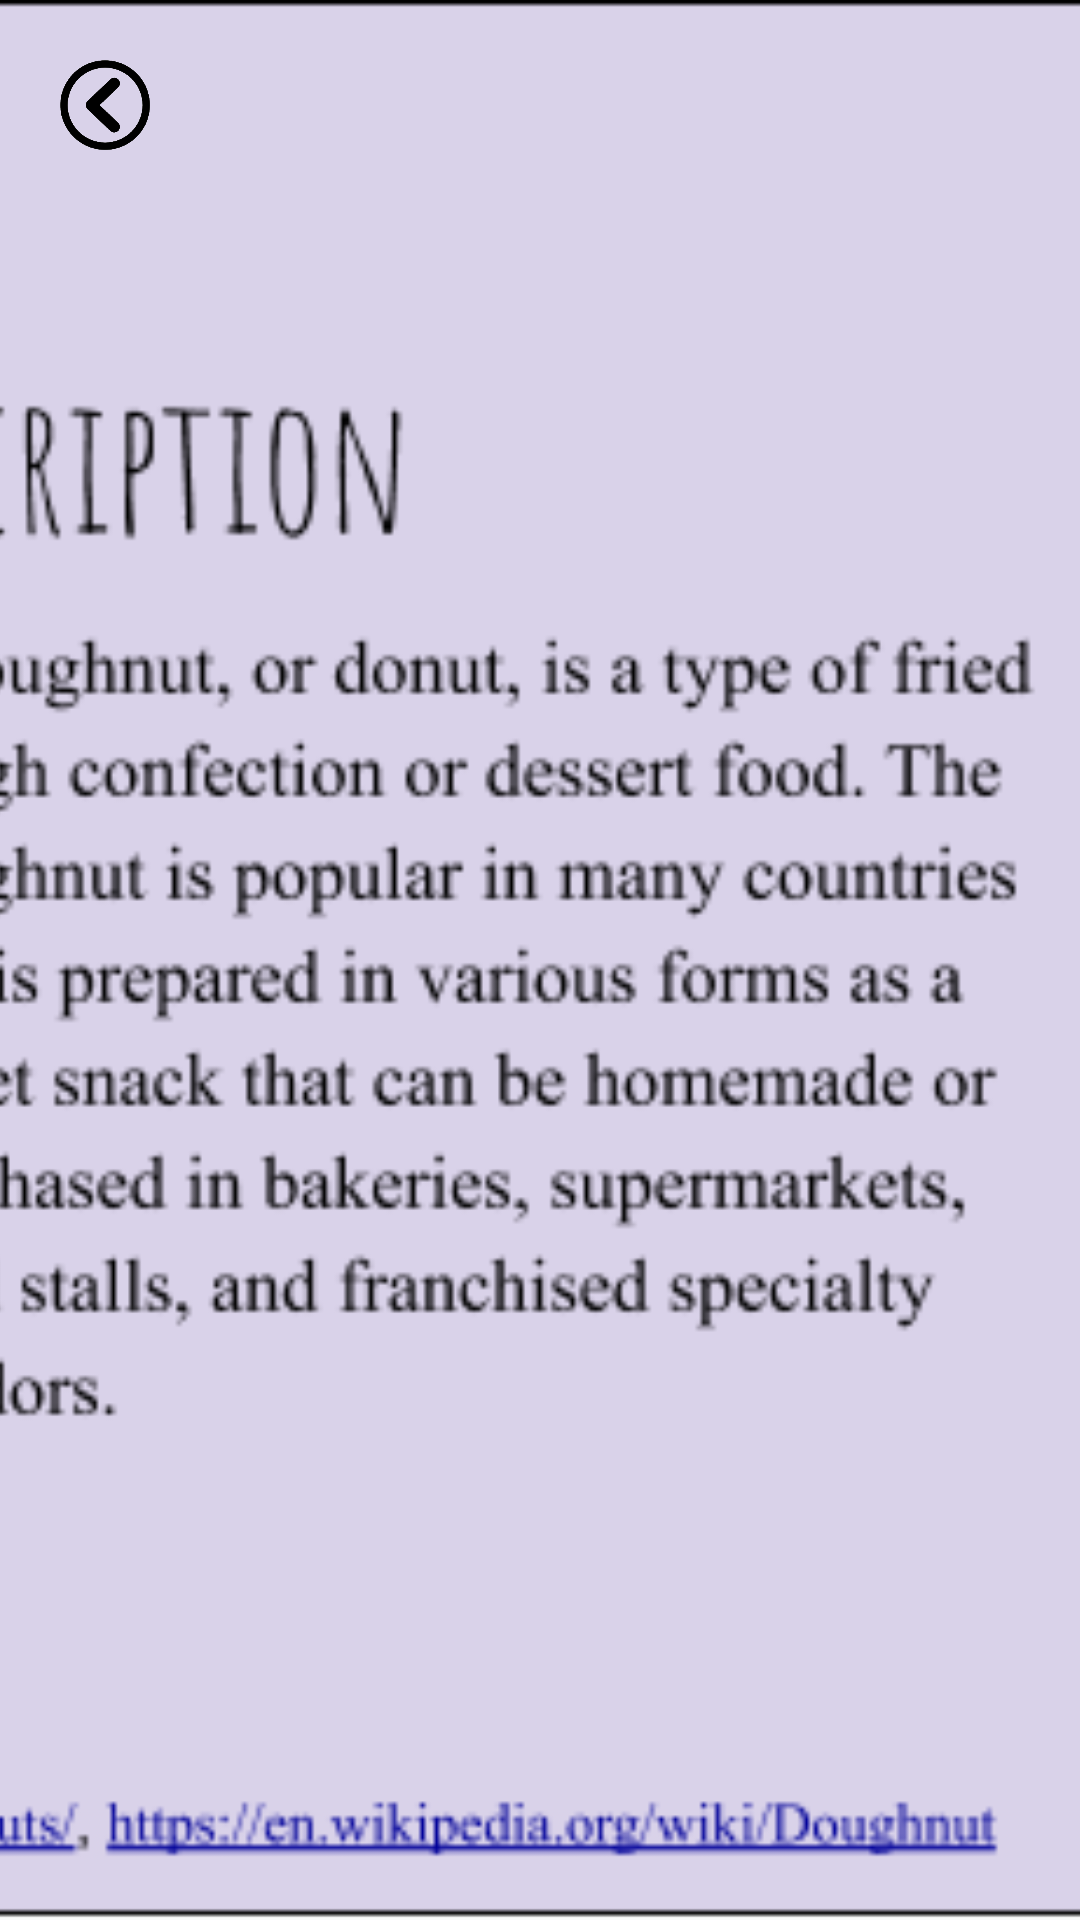

Icon click points for this 1080px×1920px phone screenshot, format [x,y]:
backbutton: [105,105]
